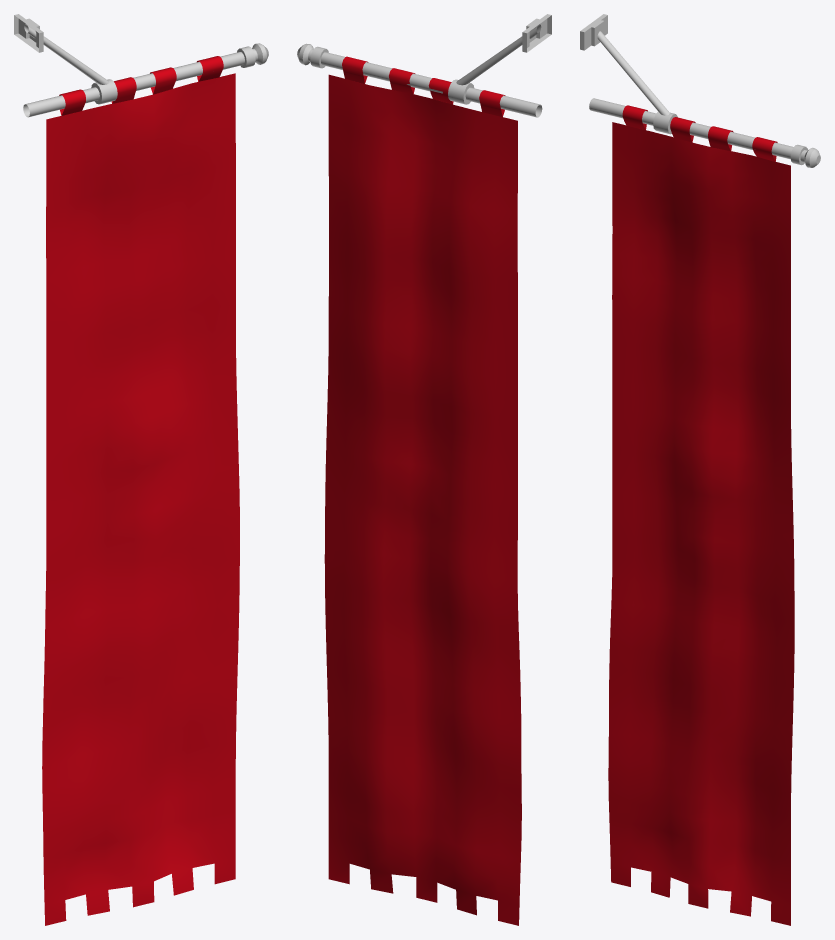
The model's file is Flag_2.fbx.
3 views of the same model, side by side, from view 1: azimuth 30°, elevation 25°; view 2: azimuth 150°, elevation 25°; view 3: azimuth 330°, elevation 25° (orthographic). The views are drawn at different scales.
Parts seen in each view (by area): view 1: Flag_2; view 2: Flag_2; view 3: Flag_2.
Boxes of the visible parts, x1,y1,x2,y2 form: Flag_2: (14, 14, 268, 925); Flag_2: (297, 14, 551, 925); Flag_2: (580, 14, 820, 925).
Size of the model in its own units: 156 by 564 by 28.1.
